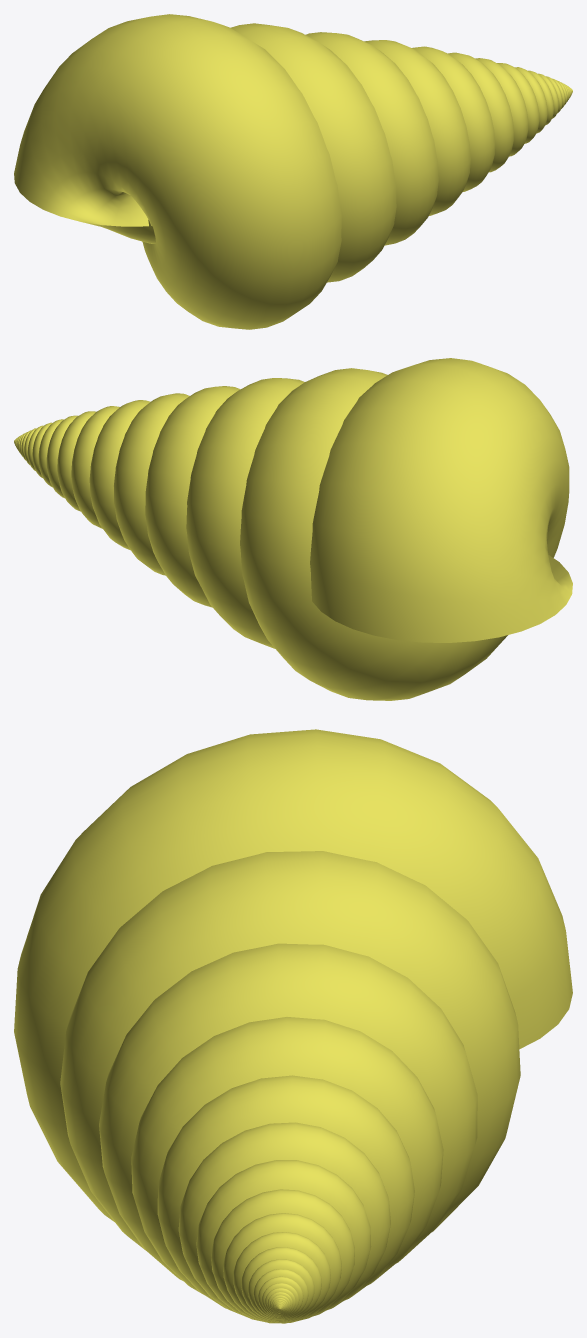
The picture shows the model from 3 angles, top to bottom: view 1: azimuth 30°, elevation 25°; view 2: azimuth 150°, elevation 25°; view 3: azimuth 270°, elevation 25°; orthographic projection. The views are drawn at different scales.
Visible parts, largest first — view 1: t14; view 2: t14; view 3: t14.
Boxes of the visible parts, box(x1,y1,x2,y2) form: t14: box(14, 14, 572, 329); t14: box(14, 358, 572, 700); t14: box(14, 729, 572, 1323).
Size of the model in its own units: 500 by 274 by 287.
